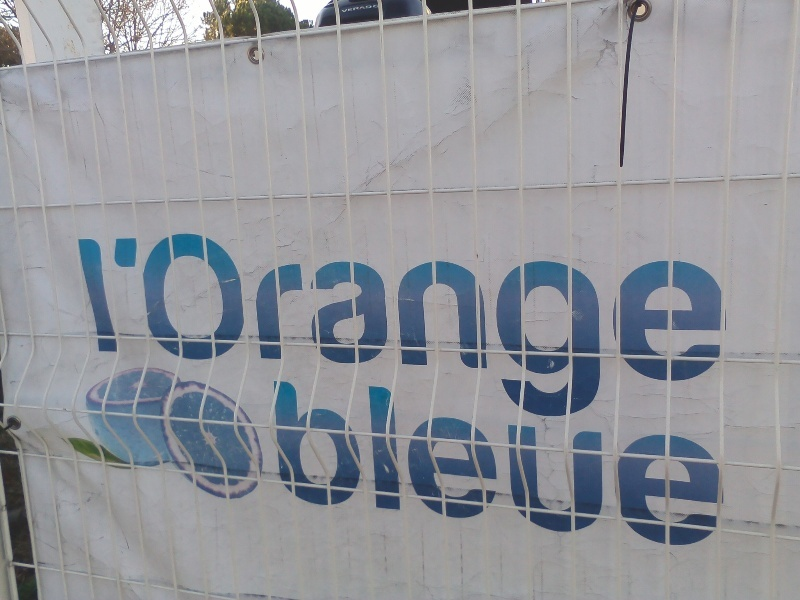text: (81, 234, 96, 434), (97, 234, 112, 434), (113, 234, 128, 434), (129, 234, 144, 434), (145, 234, 160, 434), (161, 234, 176, 434), (177, 234, 192, 434), (193, 234, 208, 434), (209, 234, 224, 434), (225, 234, 240, 434), (241, 234, 256, 434), (257, 234, 272, 434), (273, 234, 288, 434), (289, 234, 304, 434), (305, 234, 320, 434), (321, 234, 336, 434), (337, 234, 352, 434), (353, 234, 368, 434), (369, 234, 384, 434), (385, 234, 400, 434), (401, 234, 416, 434), (417, 234, 432, 434), (433, 234, 448, 434), (449, 234, 464, 434), (465, 234, 480, 434), (481, 234, 496, 434), (497, 234, 512, 434), (513, 234, 528, 434), (529, 234, 544, 434), (545, 234, 560, 434), (561, 234, 576, 434), (577, 234, 592, 434), (593, 234, 608, 434), (609, 234, 624, 434), (625, 234, 640, 434), (641, 234, 656, 434), (657, 234, 672, 434), (673, 234, 688, 434), (689, 234, 704, 434), (705, 234, 720, 434), (273, 379, 288, 552), (289, 379, 304, 552), (305, 379, 320, 552), (321, 379, 336, 552), (337, 379, 352, 552), (353, 379, 368, 552), (369, 379, 384, 552), (385, 379, 400, 552), (401, 379, 416, 552), (417, 379, 432, 552), (433, 379, 448, 552), (449, 379, 464, 552), (465, 379, 480, 552), (481, 379, 496, 552), (497, 379, 512, 552), (513, 379, 528, 552), (529, 379, 544, 552), (545, 379, 560, 552), (561, 379, 576, 552), (577, 379, 592, 552), (593, 379, 608, 552), (609, 379, 624, 552), (625, 379, 640, 552), (641, 379, 656, 552), (657, 379, 672, 552), (673, 379, 688, 552), (689, 379, 704, 552), (705, 379, 720, 552), (721, 234, 729, 434), (721, 379, 727, 552), (75, 234, 80, 434), (353, 4, 368, 14), (341, 4, 352, 14), (369, 4, 380, 14)
